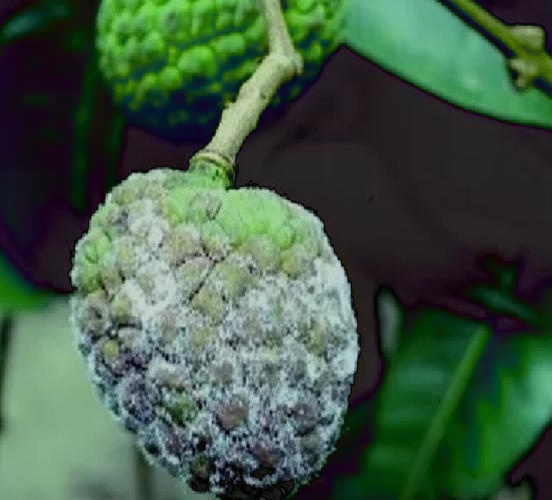Frost_Blight: (103, 177, 342, 492)
